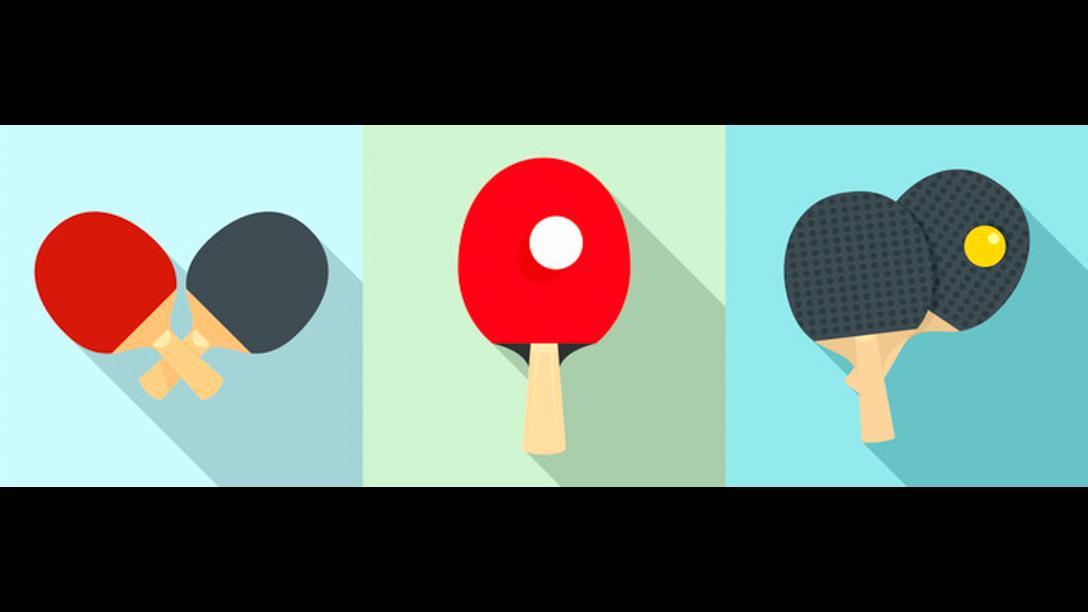Table-Tennis-Ball: (530, 215, 582, 266), (966, 225, 1006, 269)
